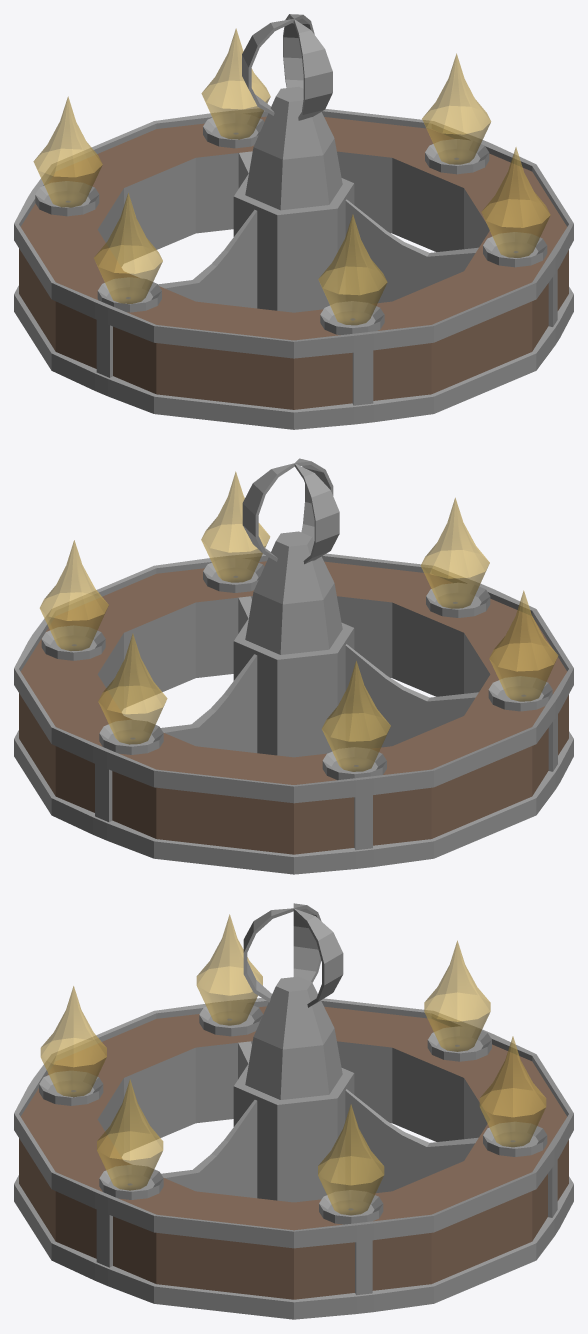
File: Chandalier.fbx
The picture shows the model from 3 angles, top to bottom: view 1: azimuth 30°, elevation 25°; view 2: azimuth 150°, elevation 25°; view 3: azimuth 270°, elevation 25°; orthographic projection.
Parts seen in each view (by area): view 1: pCylinder5, pasted__pasted__pasted__pasted__pCone1, pCone1, pasted__pasted__pCone1, pasted__pasted__pasted__pasted__pasted__pCone1, pasted__pCone1, pasted__pasted__pasted__pCone1; view 2: pCylinder5, pasted__pasted__pasted__pasted__pasted__pCone1, pasted__pasted__pasted__pCone1, pCone1, pasted__pasted__pCone1, pasted__pasted__pasted__pasted__pCone1, pasted__pCone1; view 3: pCylinder5, pasted__pasted__pasted__pCone1, pasted__pasted__pCone1, pasted__pasted__pasted__pasted__pCone1, pasted__pCone1, pCone1, pasted__pasted__pasted__pasted__pasted__pCone1.
Boxes of the visible parts, x1,y1,x2,y2 form: pCylinder5: (14,14,573,429); pasted__pasted__pasted__pasted__pCone1: (33,96,102,207); pCone1: (318,214,387,325); pasted__pasted__pCone1: (422,53,491,164); pasted__pasted__pasted__pasted__pasted__pCone1: (94,193,162,303); pasted__pCone1: (481,147,550,257); pasted__pasted__pasted__pCone1: (201,28,270,139); pCylinder5: (14,458,573,874); pasted__pasted__pasted__pasted__pasted__pCone1: (489,590,558,701); pasted__pasted__pasted__pCone1: (98,633,167,744); pCone1: (420,497,489,608); pasted__pasted__pCone1: (39,540,108,651); pasted__pasted__pasted__pasted__pCone1: (322,661,390,771); pasted__pCone1: (201,471,270,582); pCylinder5: (14,903,573,1319); pasted__pasted__pasted__pCone1: (479,1036,546,1147); pasted__pasted__pCone1: (318,1104,384,1215); pasted__pasted__pasted__pasted__pCone1: (424,940,490,1051); pasted__pCone1: (97,1079,163,1190); pCone1: (40,986,106,1097); pasted__pasted__pasted__pasted__pasted__pCone1: (196,914,262,1025).
Size of the model in its own units: 3.79 by 2.35 by 3.79.
